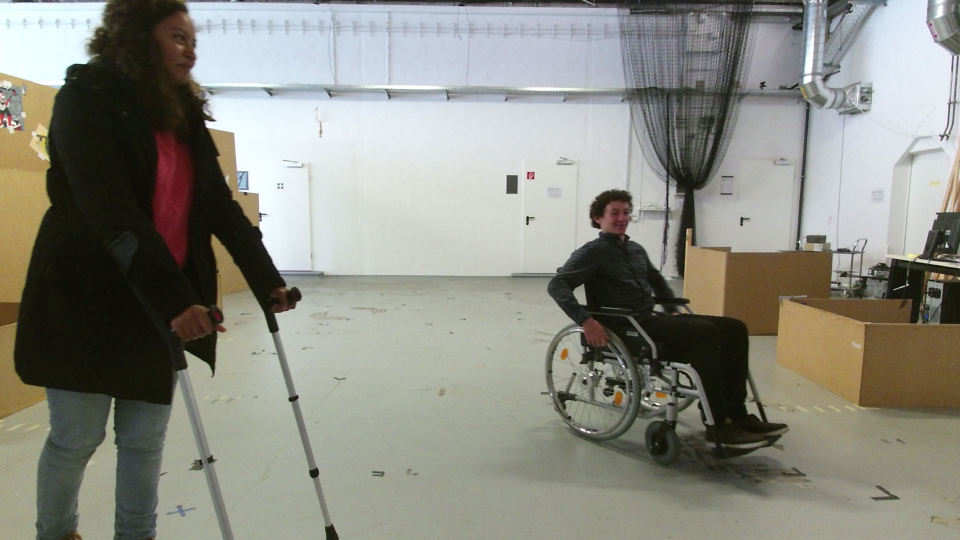crutches: (10, 1, 339, 540)
wheelchair: (537, 185, 793, 473)
